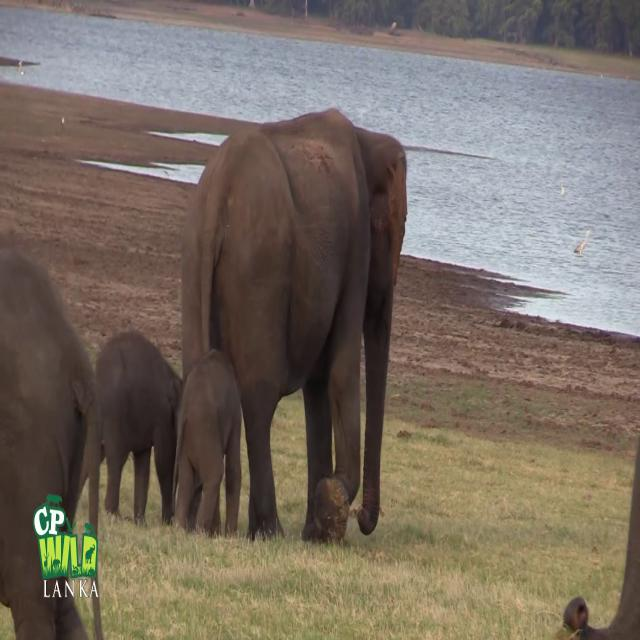Elephant: (182, 108, 408, 538), (0, 245, 103, 638), (93, 328, 183, 528), (171, 347, 242, 539)
